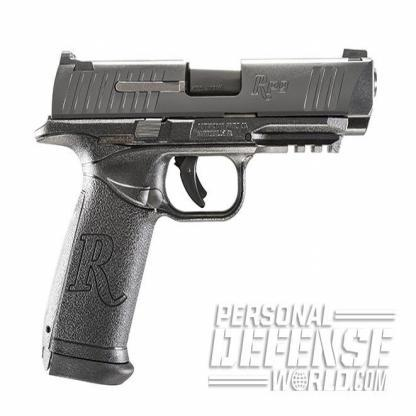Pistol: (32, 44, 379, 384)
